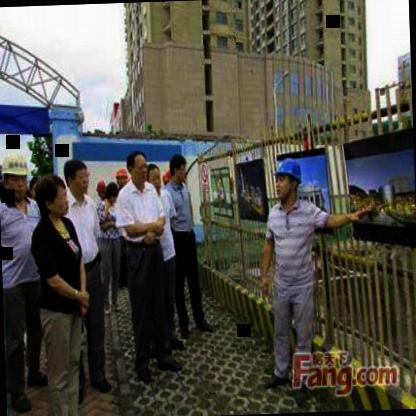head: (34, 172, 68, 223), (62, 153, 92, 200), (125, 148, 149, 188), (145, 158, 164, 198), (167, 150, 188, 184)
helmet: (0, 150, 30, 202), (274, 155, 304, 203), (114, 162, 130, 192)
